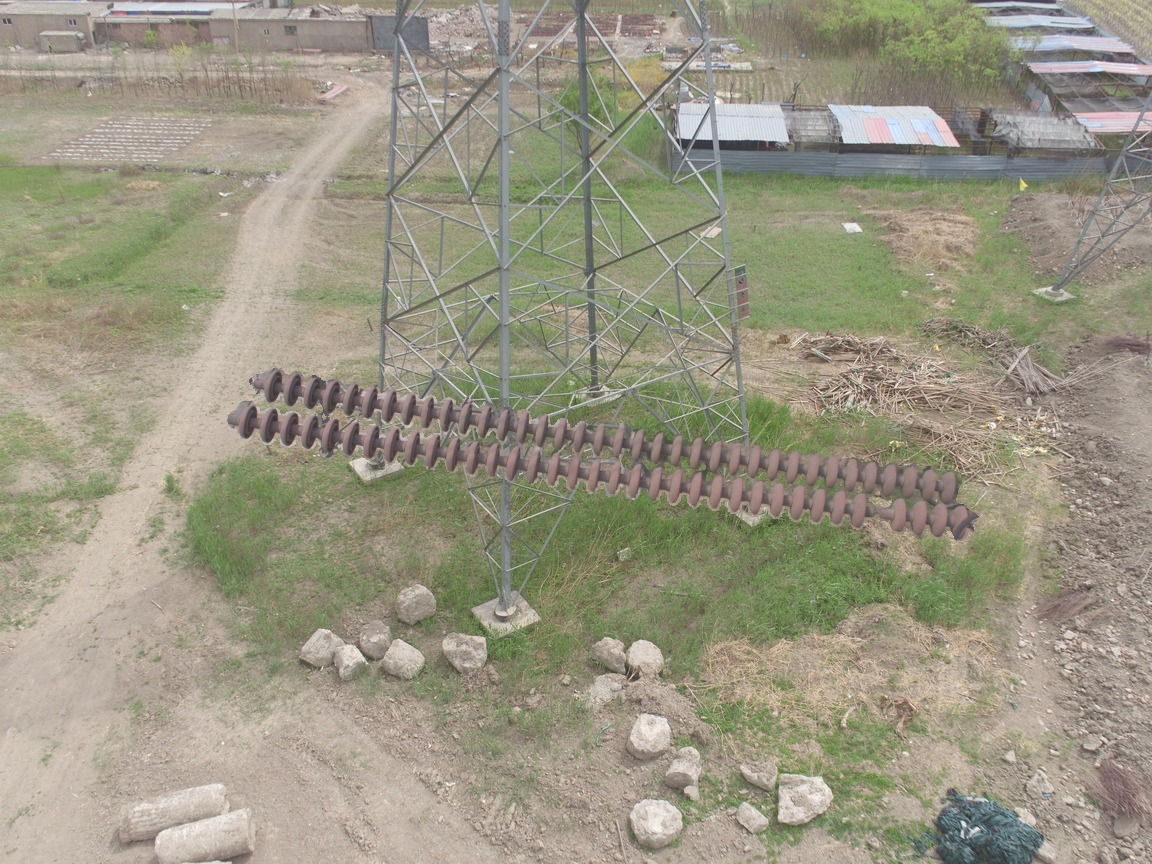defect: (848, 490, 911, 532)
